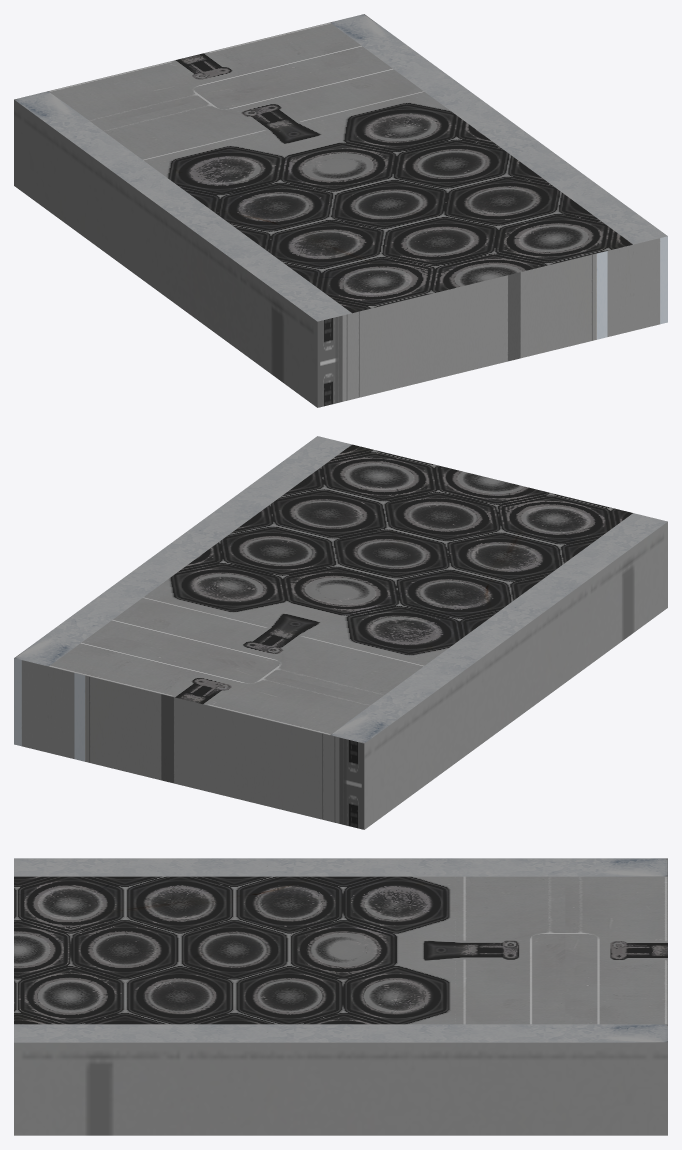
Rendered from SM_ModuGate3_L0b.fbx.
3 renders of one model, top to bottom at view 1: azimuth 30°, elevation 25°; view 2: azimuth 150°, elevation 25°; view 3: azimuth 270°, elevation 25°, orthographic. The views are drawn at different scales.
Parts seen in each view (by area): view 1: SM_ModuGate3_L0b_LOD0; view 2: SM_ModuGate3_L0b_LOD0; view 3: SM_ModuGate3_L0b_LOD0.
Boxes of the visible parts, x1,y1,x2,y2 form: SM_ModuGate3_L0b_LOD0: [14, 14, 667, 407]; SM_ModuGate3_L0b_LOD0: [14, 436, 667, 829]; SM_ModuGate3_L0b_LOD0: [14, 858, 667, 1135].
Size of the model in its own units: 40 by 60 by 9.41.
3 materials, 3 textured.
